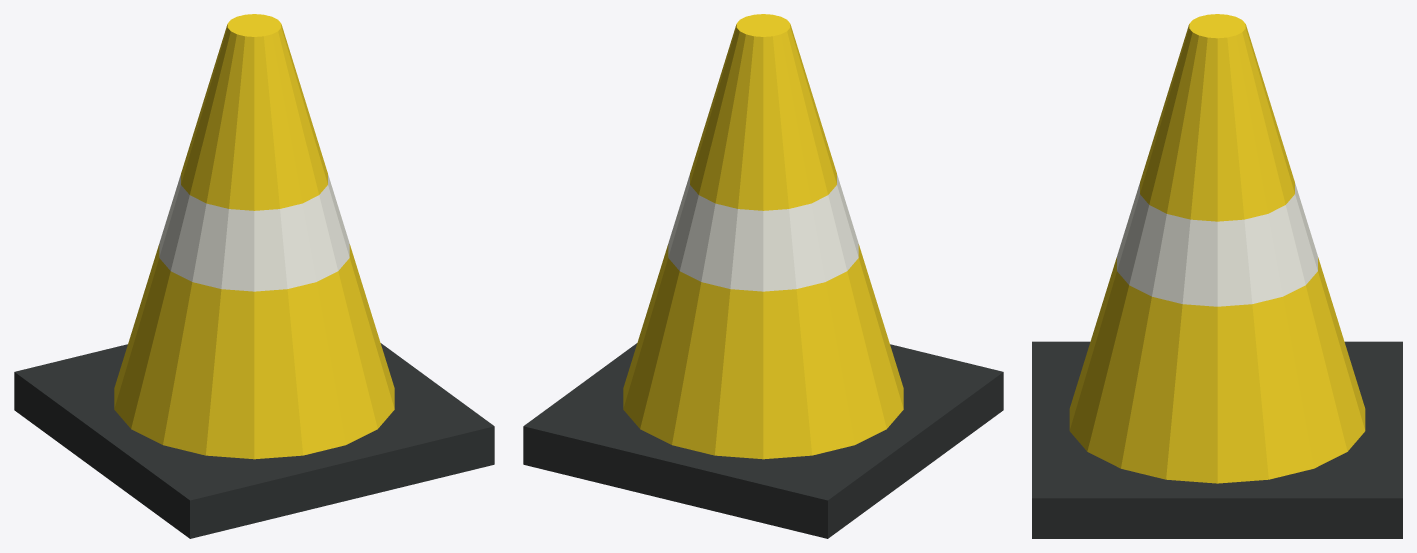
Rendered from HomebaseSpawnProbe_LOD00.gltf.
The picture shows the model from 3 angles, left to right: view 1: azimuth 30°, elevation 25°; view 2: azimuth 150°, elevation 25°; view 3: azimuth 270°, elevation 25°; orthographic projection. The views are drawn at different scales.
Parts seen in each view (by area): view 1: HomebaseSpawnProbe_node; view 2: HomebaseSpawnProbe_node; view 3: HomebaseSpawnProbe_node.
Boxes of the visible parts, bbox=[...] form: HomebaseSpawnProbe_node: bbox=[14, 14, 494, 538]; HomebaseSpawnProbe_node: bbox=[523, 14, 1003, 538]; HomebaseSpawnProbe_node: bbox=[1032, 14, 1402, 538].
Size of the model in its own units: 0.58 by 0.75 by 0.58.
